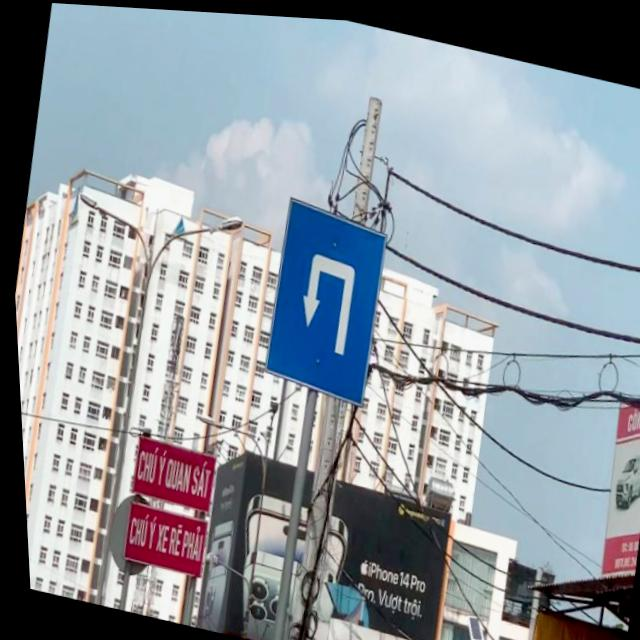Cho quay xe: (252, 188, 393, 408)
